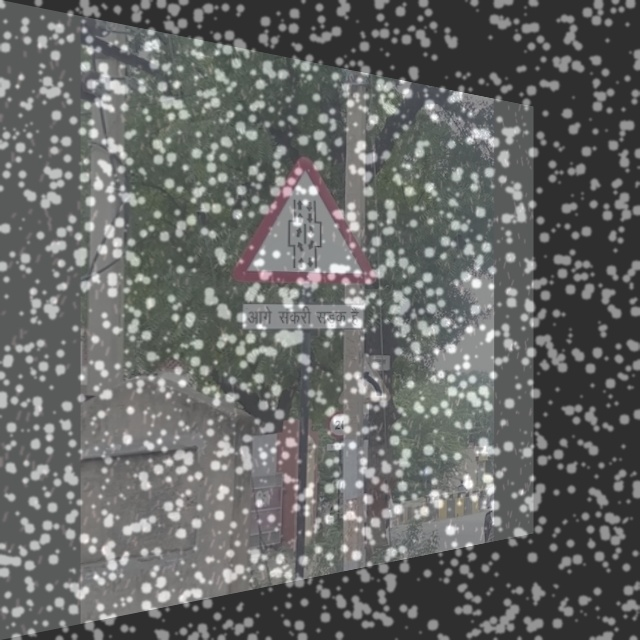Narrow_Road_Ahead: (228, 149, 374, 287)
